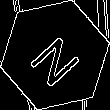N_NE: (24, 23, 86, 87)
